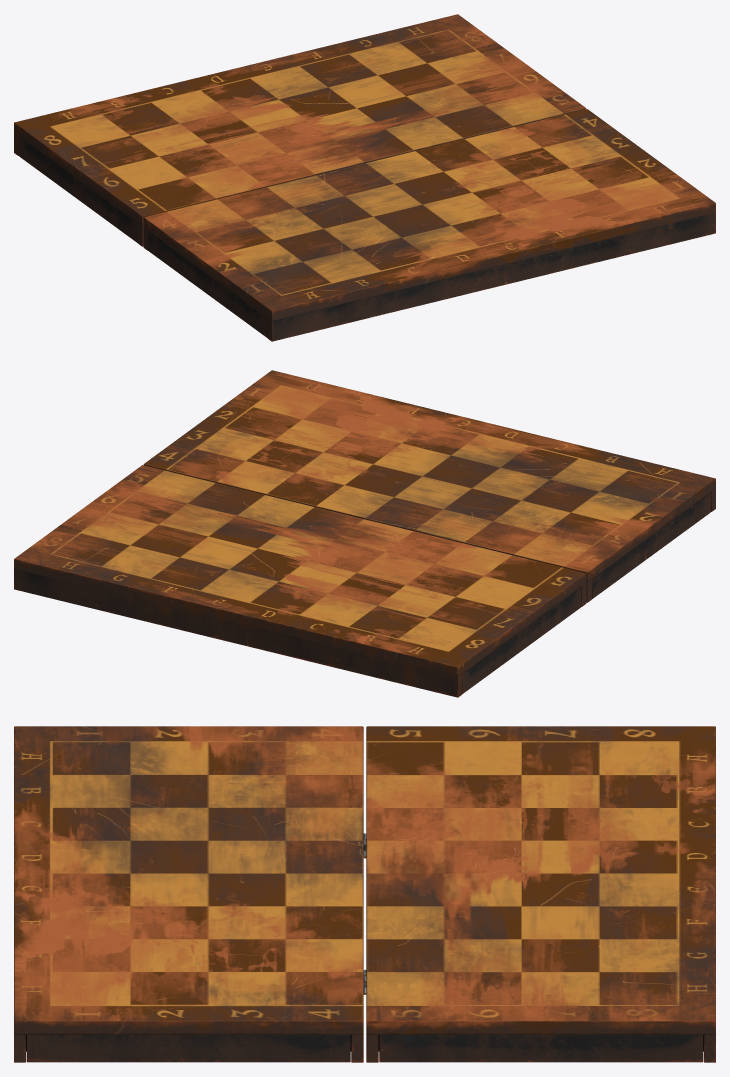
File: board_day_4.fbx
The picture shows the model from 3 angles, top to bottom: view 1: azimuth 30°, elevation 25°; view 2: azimuth 150°, elevation 25°; view 3: azimuth 270°, elevation 25°; orthographic projection. The views are drawn at different scales.
Visible parts, largest first — view 1: board_day_4; view 2: board_day_4; view 3: board_day_4.
Boxes of the visible parts, left/top/right/bottom form: board_day_4: left=14, top=14, right=715, bottom=341; board_day_4: left=14, top=370, right=715, bottom=697; board_day_4: left=14, top=726, right=715, bottom=1062.
Bounding box in the file's own units: 1.11 × 1.12 × 0.0745.
